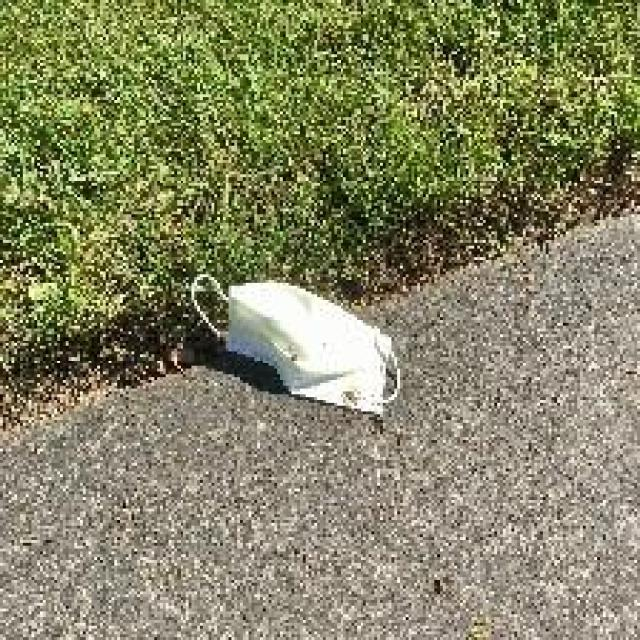Mask: (142, 247, 437, 489)
